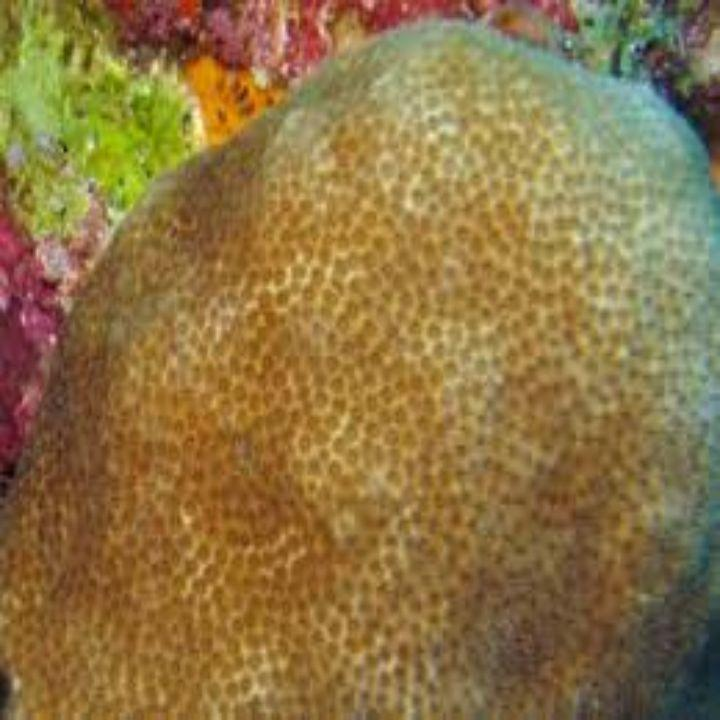Healthy Coral: (66, 90, 694, 673)
